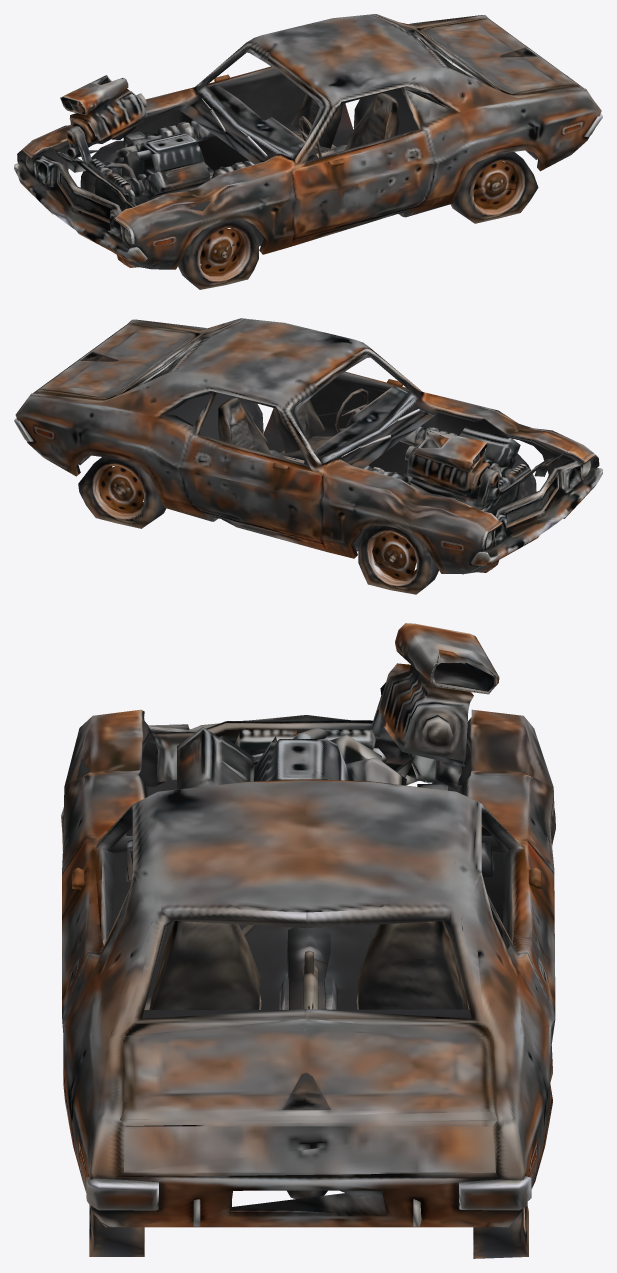
The model's file is wreck_3.glb.
3 views of the same model, one above another, from view 1: azimuth 30°, elevation 25°; view 2: azimuth 150°, elevation 25°; view 3: azimuth 270°, elevation 25° (orthographic). The views are drawn at different scales.
Parts seen in each view (by area): view 1: geometry_0; view 2: geometry_0; view 3: geometry_0.
Part boxes in pixels (left/top/right/bottom): geometry_0: left=14, top=14, right=602, bottom=289; geometry_0: left=14, top=318, right=602, bottom=594; geometry_0: left=61, top=623, right=555, bottom=1258.
Size of the model in its own units: 0.9502 by 0.2896 by 0.4185.
Materials: 1 (1 with a texture image).
